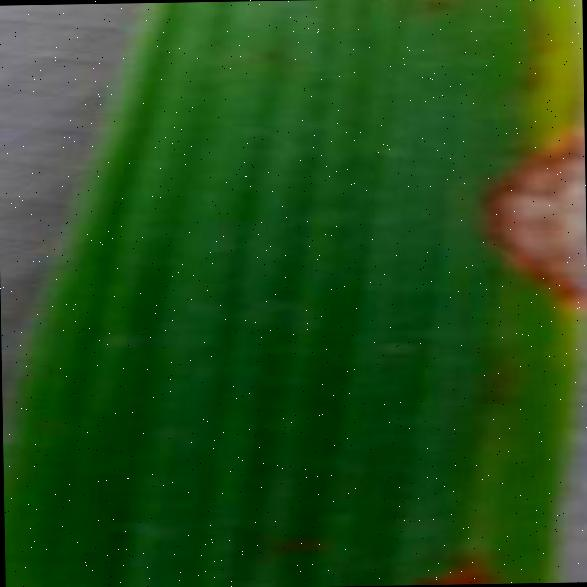Leaf_smut: (466, 110, 586, 302)
